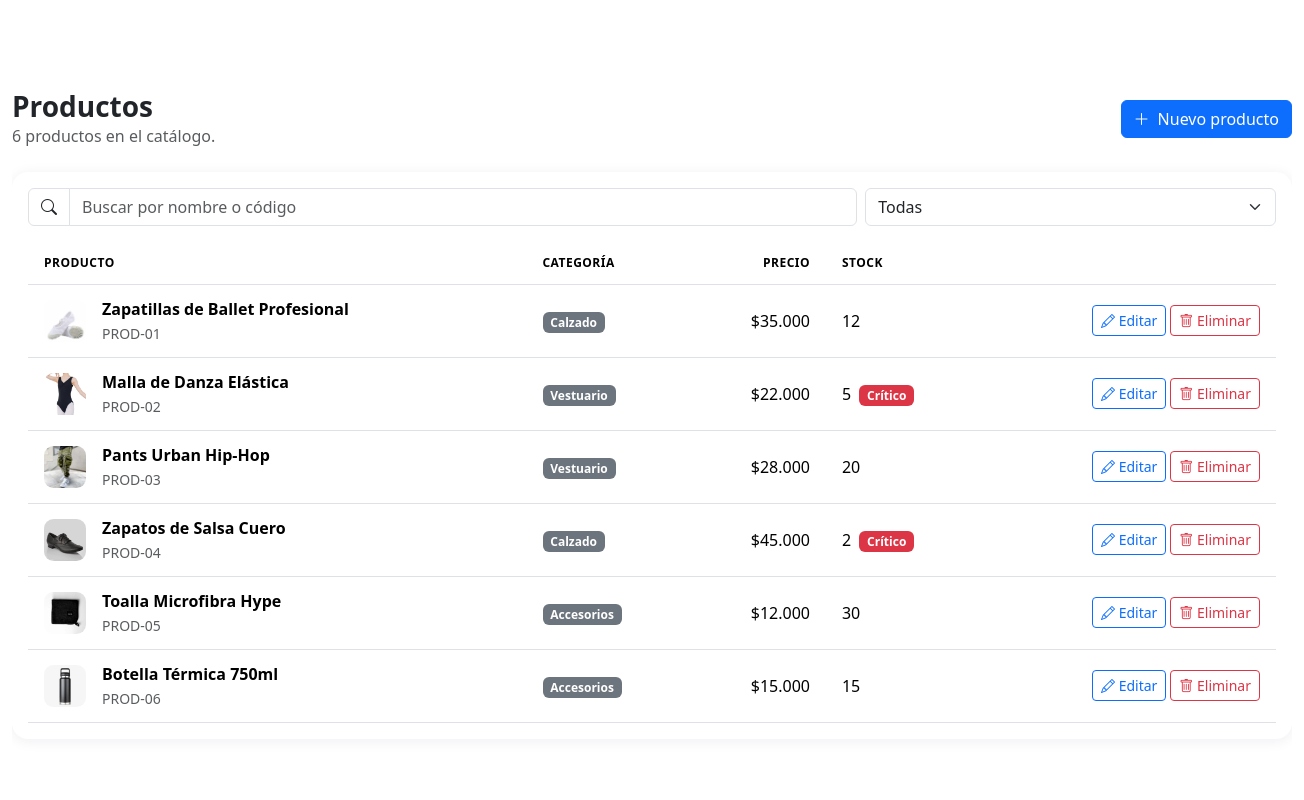
Scenario: admin/views/ProductosView › filtra por categoría
Step 1. Select "Calzado" in the dropdown named "Filtrar por categoría" → [1071, 207], box [865,188,1276,226]
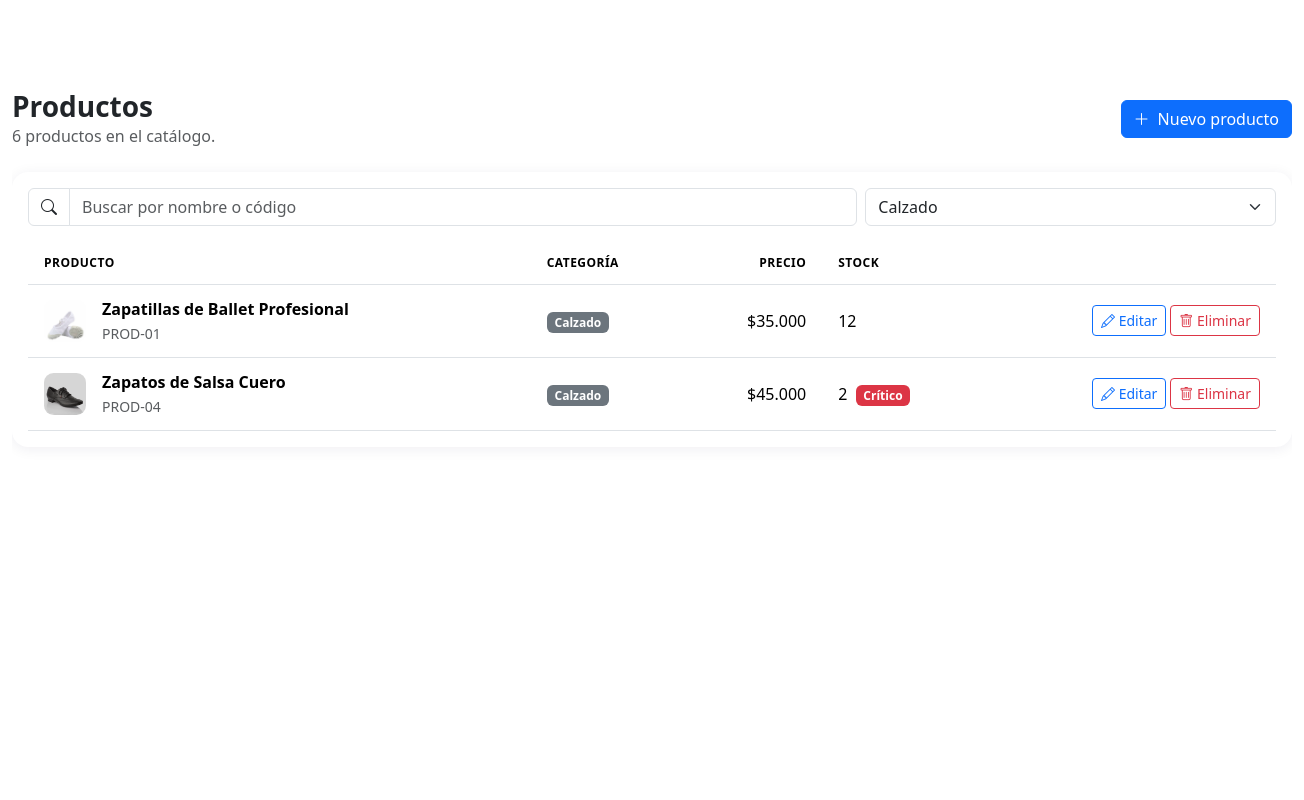
Expected: the number of buttons "Editar" is 2, [1092,305,1166,336]; [1092,378,1166,409]
